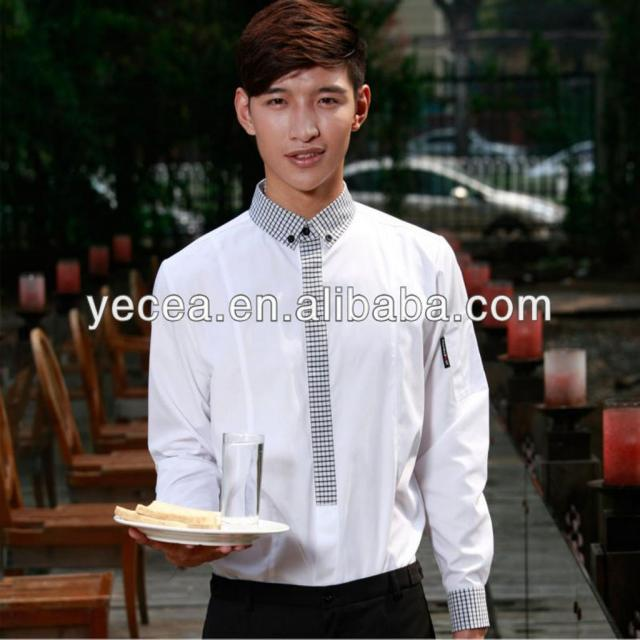nomask: (253, 40, 355, 190)
